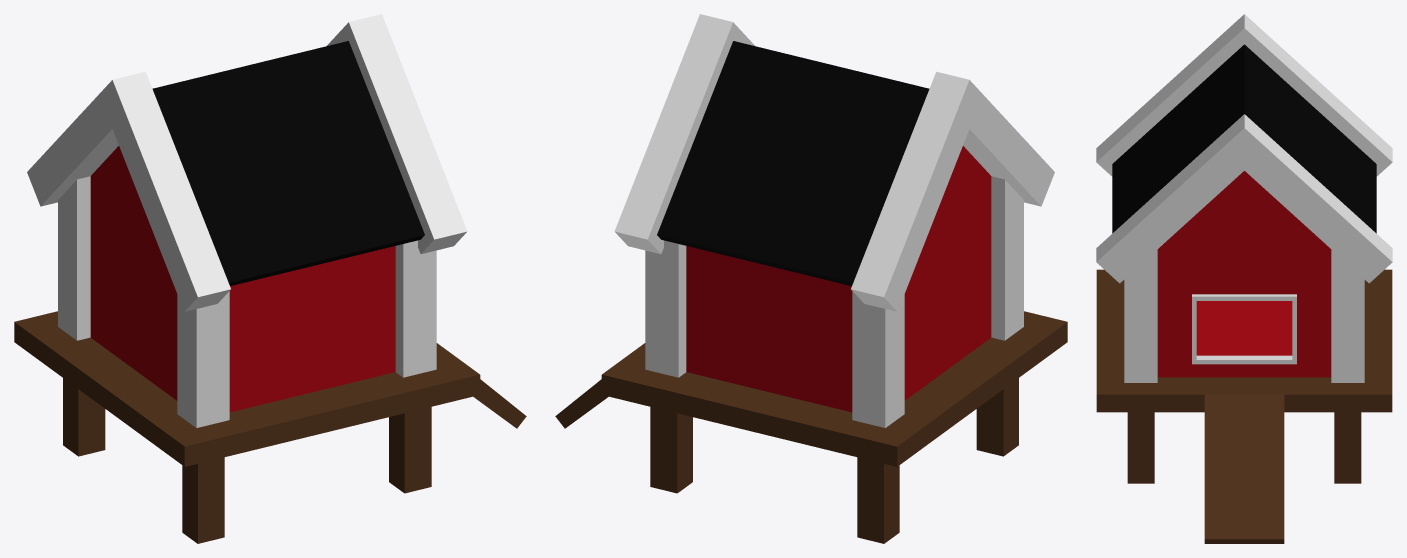
The model's file is coop.fbx.
The picture shows the model from 3 angles, left to right: view 1: azimuth 30°, elevation 25°; view 2: azimuth 150°, elevation 25°; view 3: azimuth 270°, elevation 25°; orthographic projection. The views are drawn at different scales.
Visible parts, largest first — view 1: coop; view 2: coop; view 3: coop.
Part boxes in pixels (x1,y1,x2,y2): coop: (14,14,526,543); coop: (555,14,1067,543); coop: (1096,14,1392,543).
Size of the model in its own units: 274 by 275 by 201.
